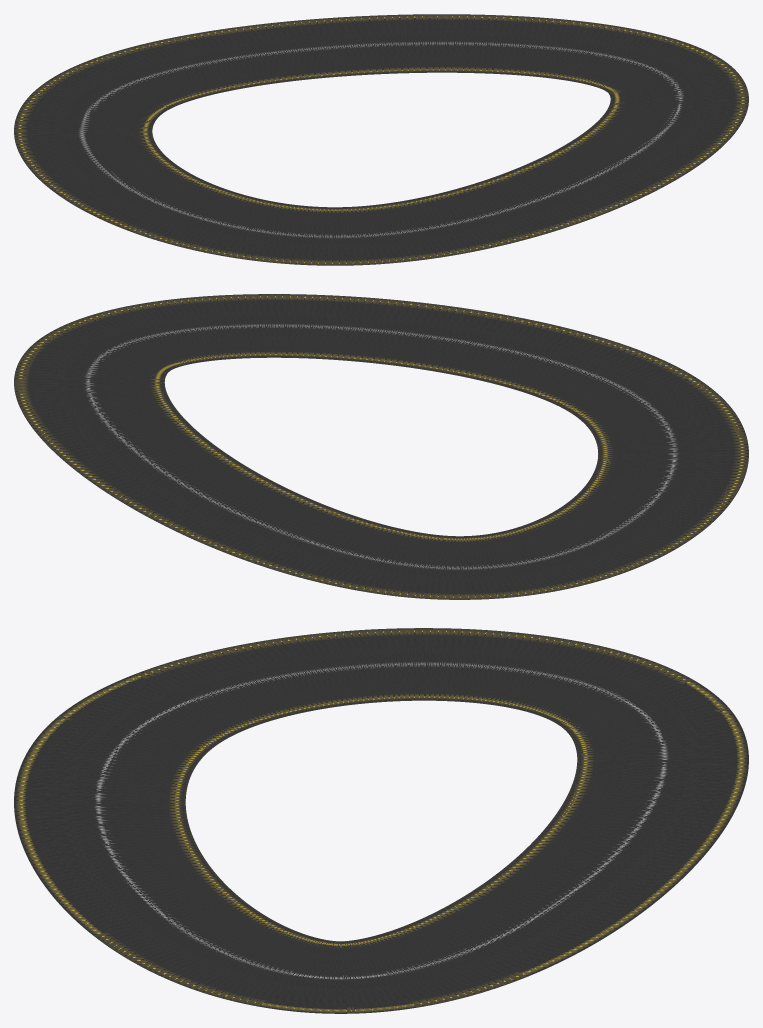
The picture shows the model from 3 angles, top to bottom: view 1: azimuth 30°, elevation 25°; view 2: azimuth 150°, elevation 25°; view 3: azimuth 270°, elevation 25°; orthographic projection. The views are drawn at different scales.
Visible parts, largest first — view 1: road; view 2: road; view 3: road.
Boxes of the visible parts, box(x1,y1,x2,y2) form: road: box(14, 14, 748, 265); road: box(14, 294, 748, 599); road: box(14, 628, 748, 1013).
Bounding box in the file's own units: 0.9565 × 0 × 0.7702.
Materials: 1 (1 with a texture image).
